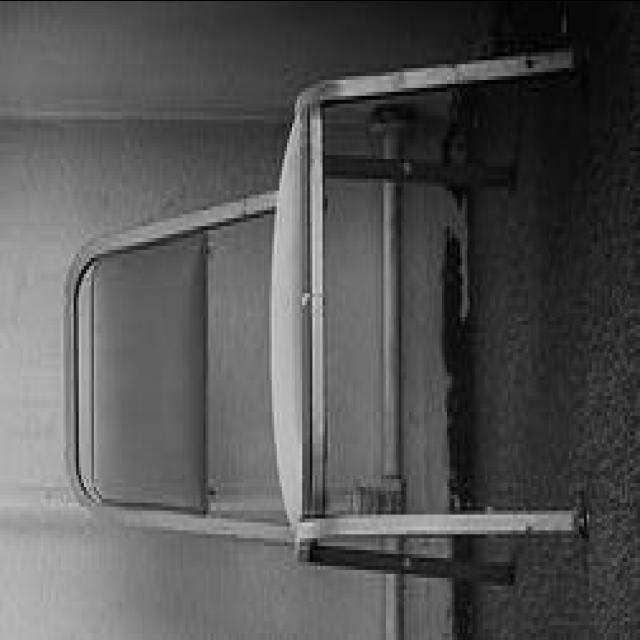chair: (60, 44, 582, 586)
